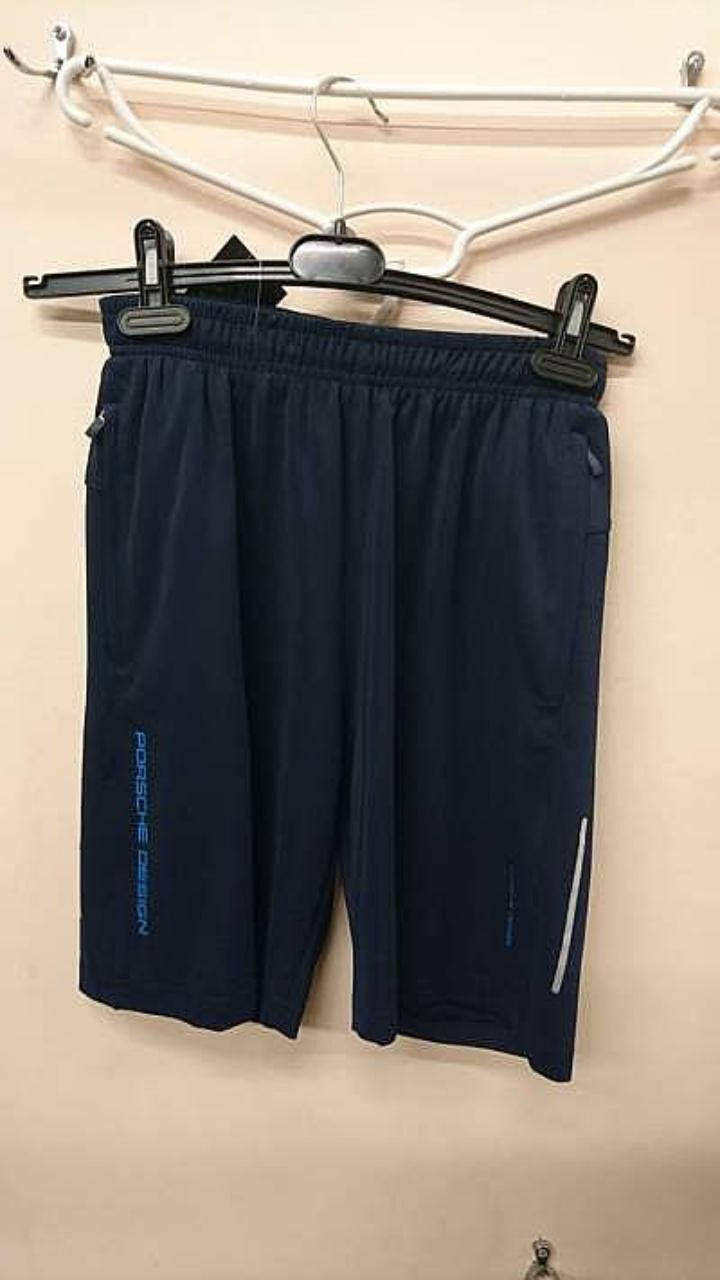Shorts: (80, 294, 609, 1080)
